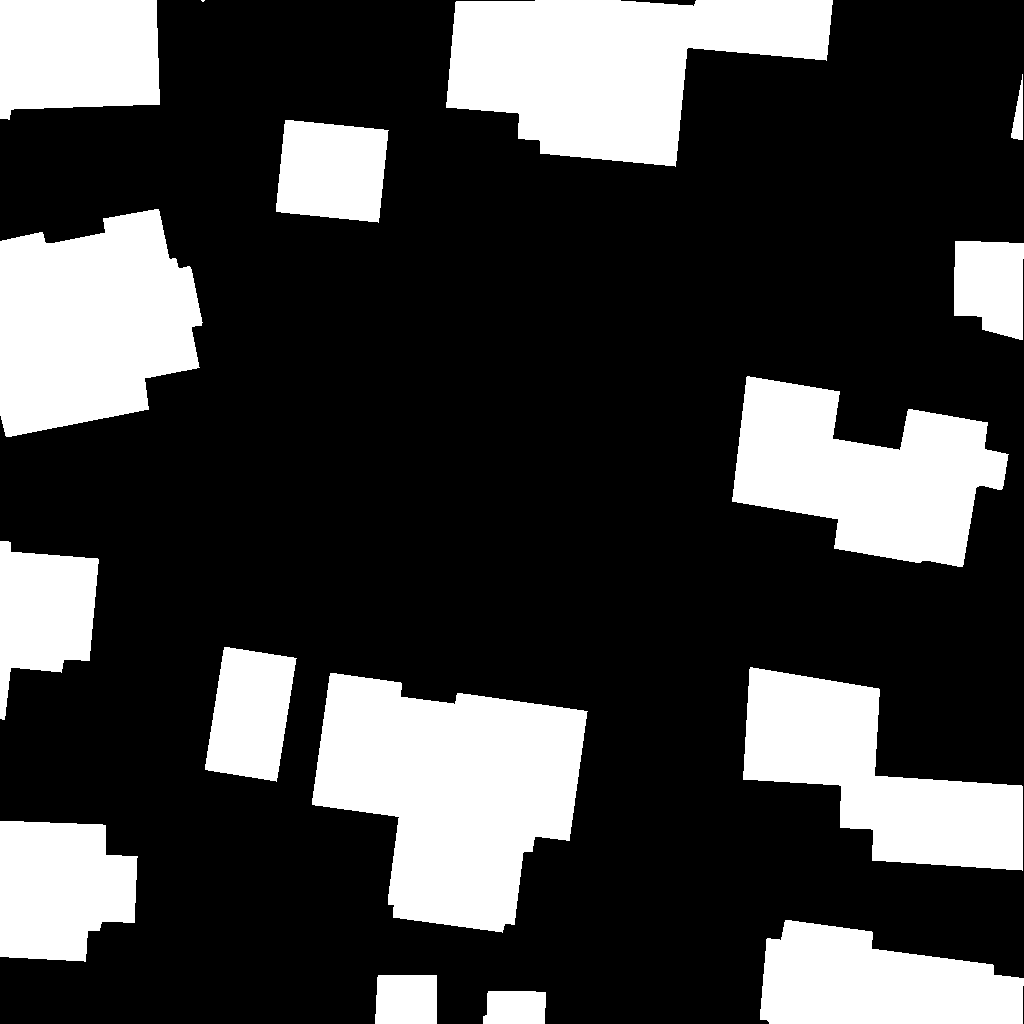building: (312, 673, 588, 933), (446, 0, 834, 167), (743, 667, 1024, 871), (732, 376, 1009, 568), (0, 209, 203, 438), (760, 920, 1024, 1024), (0, 821, 138, 962), (0, 0, 161, 120), (954, 72, 1024, 341), (0, 541, 100, 721), (205, 647, 297, 782), (276, 120, 389, 223), (375, 975, 547, 1024), (201, 0, 206, 3)
